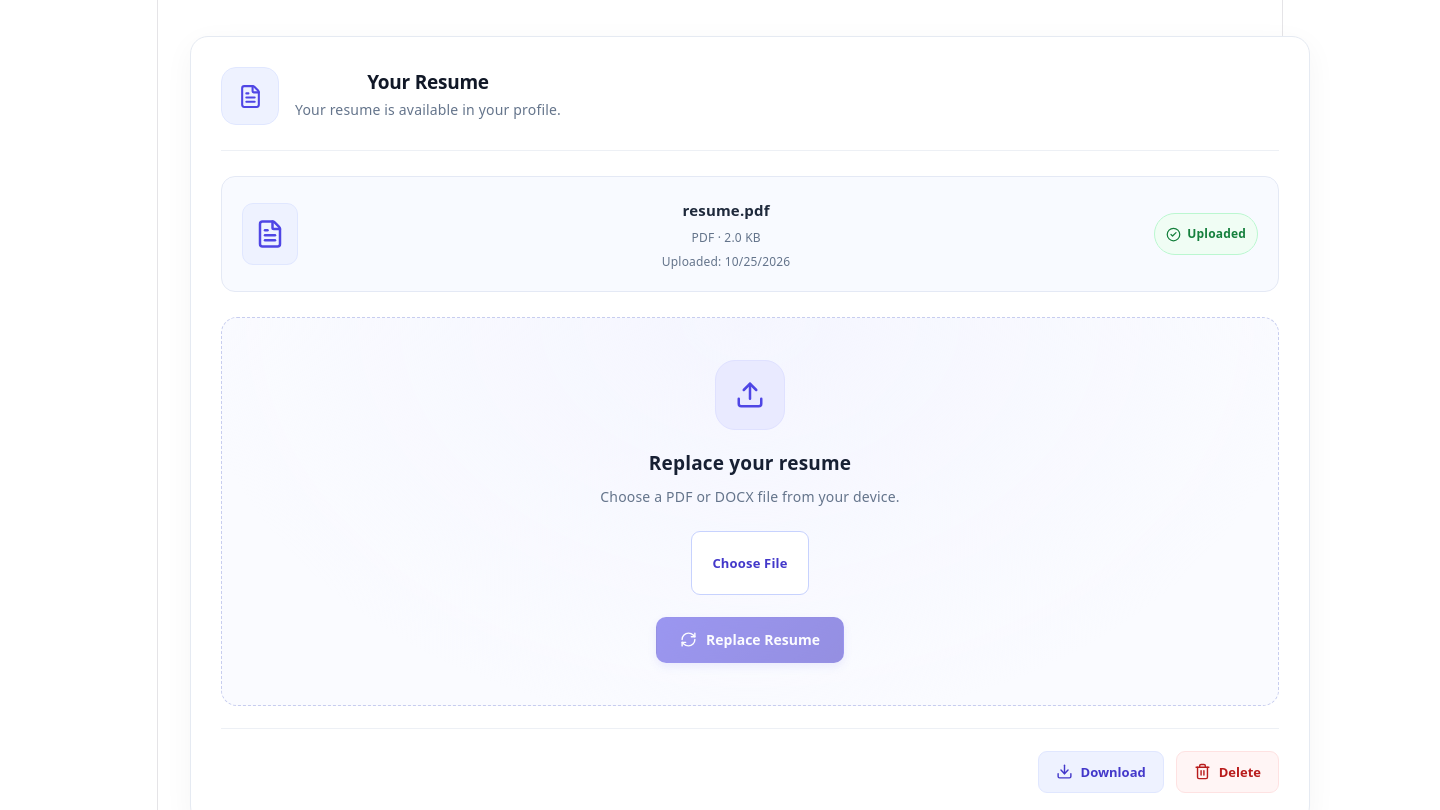
Test: ResumeManagement › deletes the resume after confirmation
Check: the text "resume.pdf" is shown, box [682,200,770,220]
Click the button "Delete" at {"x": 1227, "y": 772}, box [1176,751,1279,793]
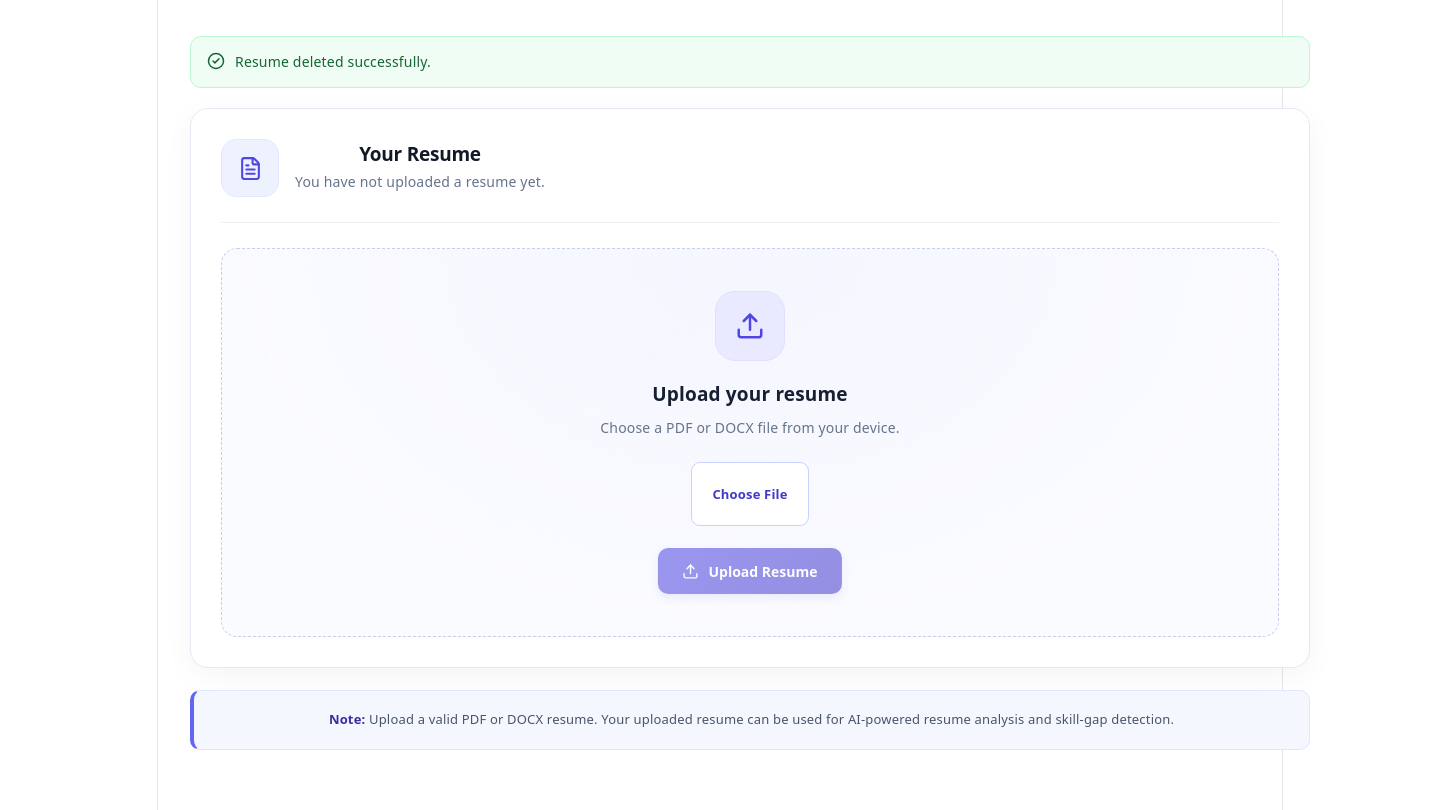
Check: the text "Resume deleted successfully." is shown, box [235,51,431,73]
Check: the text "resume.pdf" is gone
